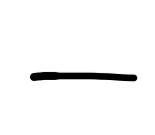minus: (31, 71, 137, 81)
